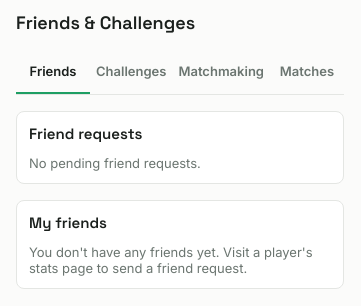
Test: FriendsScreen › REQ-1403: selecting the "Matchmaking" tab shows its "Opt in" action
Check: the text "No pending friend requests." is shown, box 29,155 -> 201,171
Step 1. Click the tab "Matchmaking" → (221, 72), box 172,50 -> 270,94
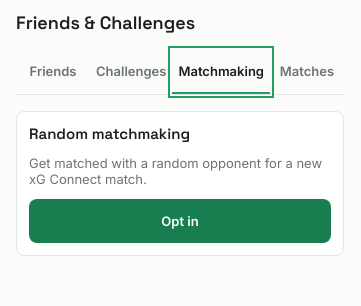
Check: the button "Opt in" is shown, box 29,199 -> 331,243
